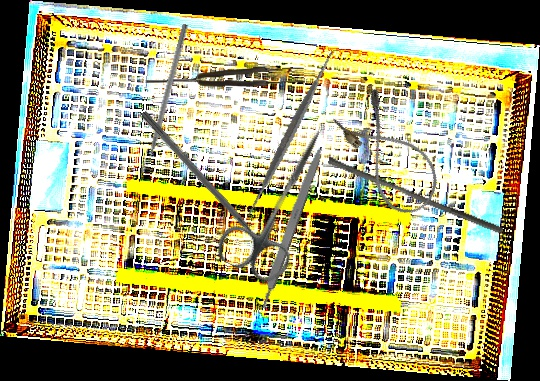Cannula: (328, 84, 451, 225)
Iris Scissors: (211, 113, 350, 289)
Pusher: (138, 110, 274, 258), (325, 156, 506, 235), (140, 23, 189, 177)
Scalpel Handle: (255, 144, 326, 310)
Spatula Surgical: (207, 48, 375, 218)
Tissue Forceps: (144, 65, 305, 91)
